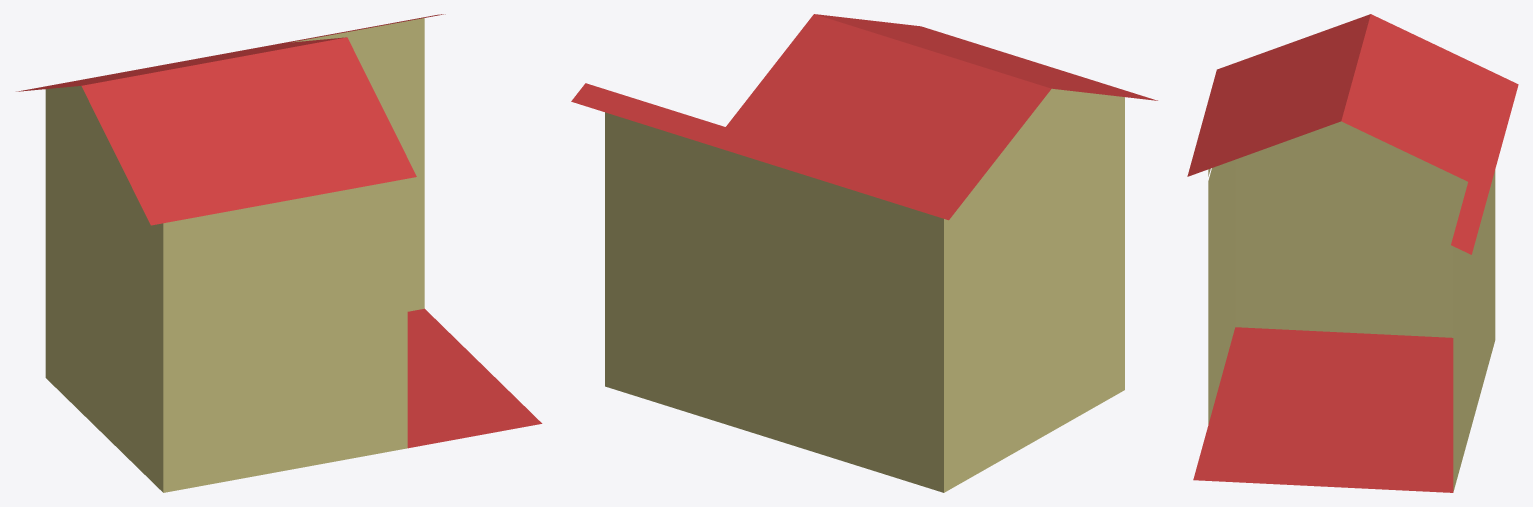
3 renders of one model, left to right at view 1: azimuth 30°, elevation 25°; view 2: azimuth 150°, elevation 25°; view 3: azimuth 270°, elevation 25°, orthographic. The views are drawn at different scales.
Bounding box in the file's own units: 10.45 × 7.89 × 8.17.
